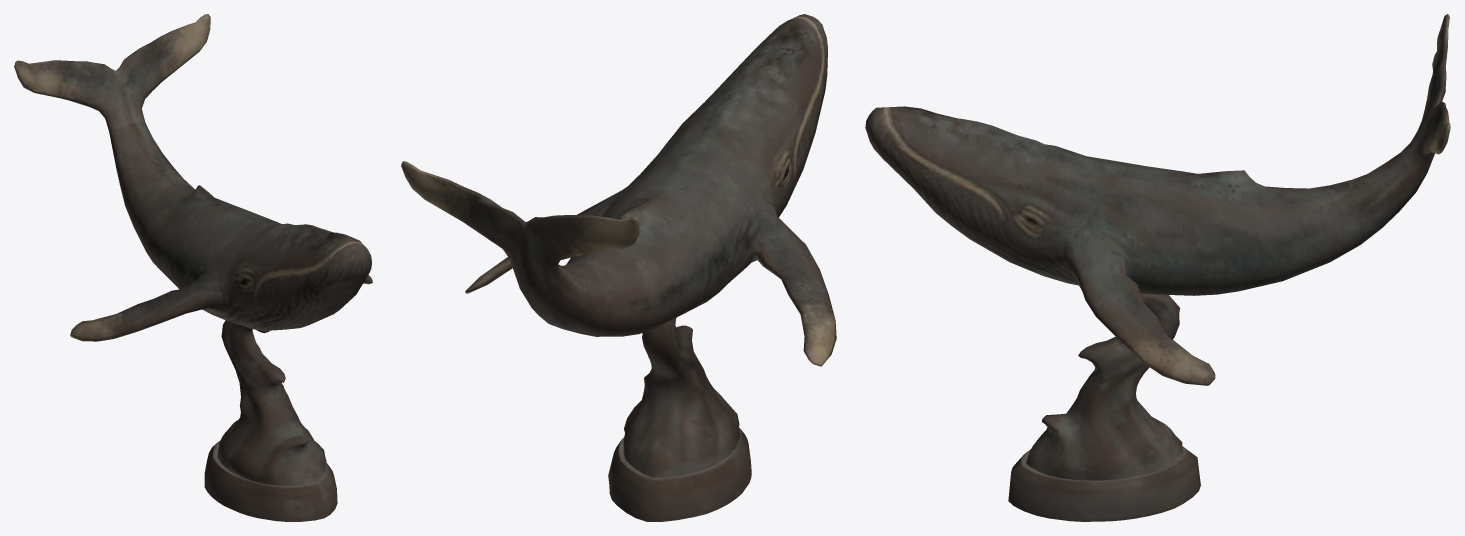
Rendered from bronze_whale_statue.glb.
3 renders of one model, left to right at view 1: azimuth 30°, elevation 25°; view 2: azimuth 150°, elevation 25°; view 3: azimuth 270°, elevation 25°, orthographic. The views are drawn at different scales.
Visible parts, largest first — view 1: bronze_whale_statue; view 2: bronze_whale_statue; view 3: bronze_whale_statue.
Part boxes in pixels (x1,y1,x2,y2): bronze_whale_statue: (14, 14, 372, 521); bronze_whale_statue: (401, 14, 836, 521); bronze_whale_statue: (865, 14, 1450, 521).
Bounding box in the file's own units: 0.9319 × 1.07 × 1.37.
1 material, 1 textured.
